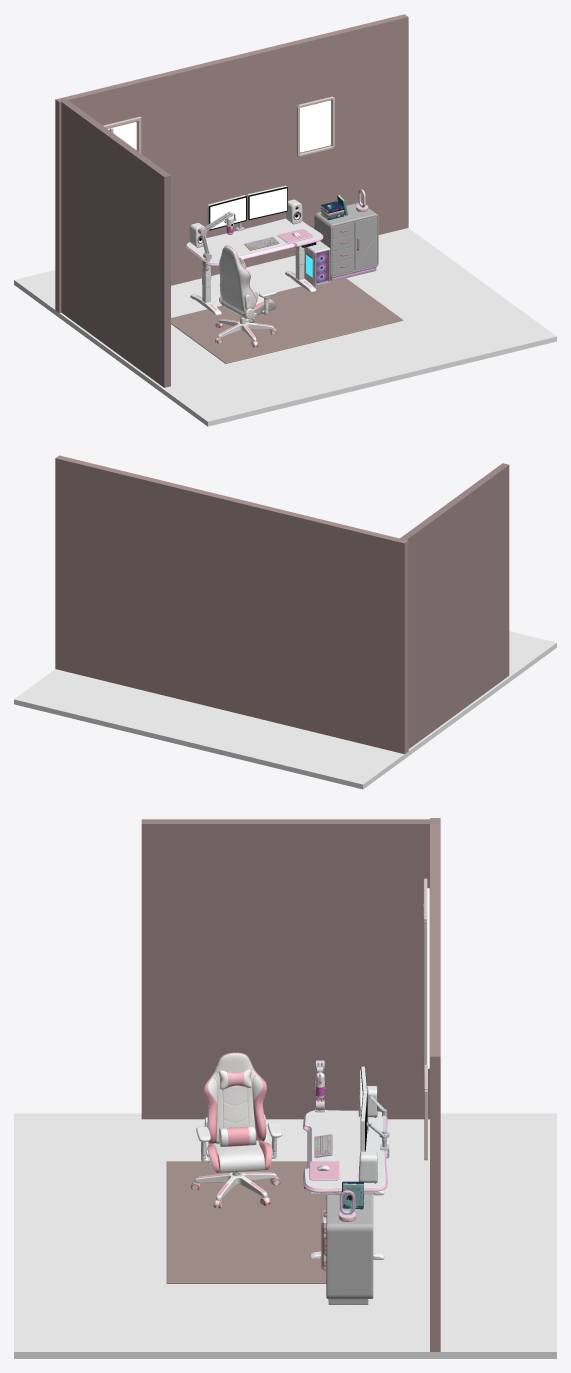
3 renders of one model, top to bottom at view 1: azimuth 30°, elevation 25°; view 2: azimuth 150°, elevation 25°; view 3: azimuth 270°, elevation 25°, orthographic. The views are drawn at different scales.
Visible parts, largest first — view 1: Architecture_Back_Wall, Architecture_Floor, Architecture_Left_Wall, Decor_Rug, GEO_Desk_Moving_Top, GEO_Chair_Swivel_Upper, GEO_Cabinet_Body, Wall_Art_Art, GEO_Door_Right_Front, 04-pc-tower_mesh_01, Screen_Right, GEO_Chair_Static_Base (+2 smaller); view 2: Architecture_Back_Wall, Architecture_Left_Wall, Architecture_Floor; view 3: Architecture_Floor, Architecture_Left_Wall, Decor_Rug, GEO_Chair_Swivel_Upper, Architecture_Back_Wall, GEO_Cabinet_Body, GEO_Desk_Moving_Top, GEO_Chair_Static_Base, Window_Frame_V.001, GEO_Chair_Lumbar_Detachable.
Boxes of the visible parts, x1,y1,x2,y2 form: Architecture_Back_Wall: (55, 14, 408, 312); Architecture_Floor: (14, 228, 556, 426); Architecture_Left_Wall: (58, 98, 170, 387); Decor_Rug: (171, 277, 403, 363); GEO_Desk_Moving_Top: (185, 218, 323, 274); GEO_Chair_Swivel_Upper: (219, 245, 276, 321); GEO_Cabinet_Body: (314, 202, 378, 280); Wall_Art_Art: (300, 100, 330, 152); GEO_Door_Right_Front: (355, 216, 377, 270); 04-pc-tower_mesh_01: (304, 241, 330, 286); Screen_Right: (249, 188, 286, 218); GEO_Chair_Static_Base: (215, 317, 276, 347); Architecture_Back_Wall: (55, 455, 408, 753); Architecture_Left_Wall: (396, 463, 509, 748); Architecture_Floor: (14, 631, 556, 789); Architecture_Floor: (14, 1113, 556, 1358); Architecture_Left_Wall: (141, 819, 440, 1119); Decor_Rug: (166, 1161, 334, 1283); GEO_Chair_Swivel_Upper: (196, 1052, 282, 1173); Architecture_Back_Wall: (430, 818, 440, 1351); GEO_Cabinet_Body: (326, 1194, 373, 1304); GEO_Desk_Moving_Top: (303, 1110, 387, 1194); GEO_Chair_Static_Base: (191, 1172, 280, 1208); Window_Frame_V.001: (423, 921, 427, 1075); GEO_Chair_Lumbar_Detachable: (218, 1126, 256, 1146).
Size of the model in its own units: 5.2 by 3.07 by 5.
Materials: 32 (15 with a texture image).
